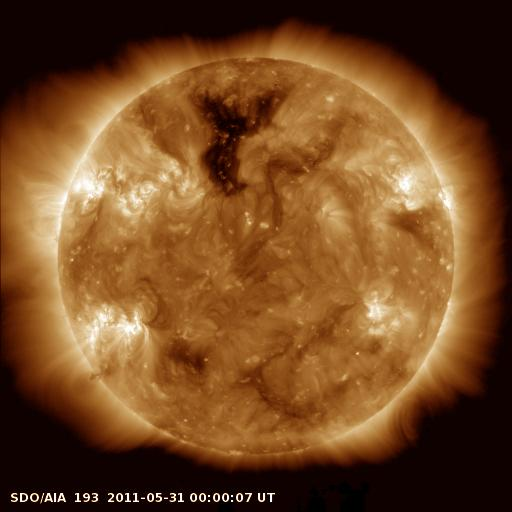coronal_hole: (192, 85, 284, 195)
